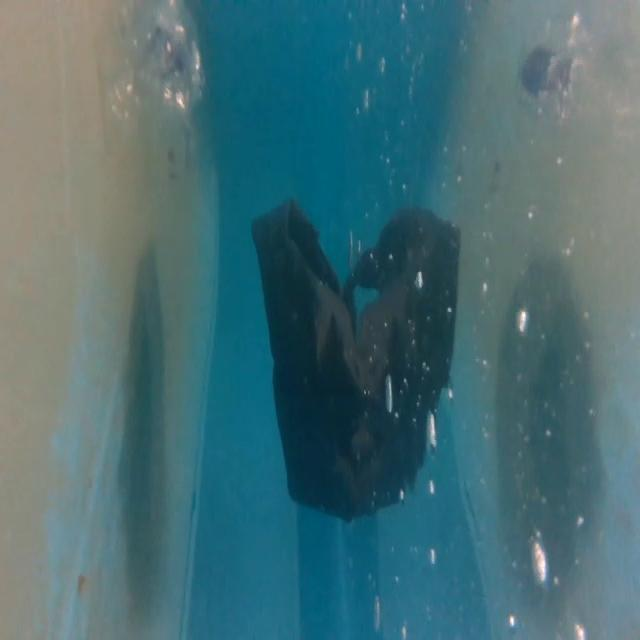plastic bags: (248, 190, 461, 530)
